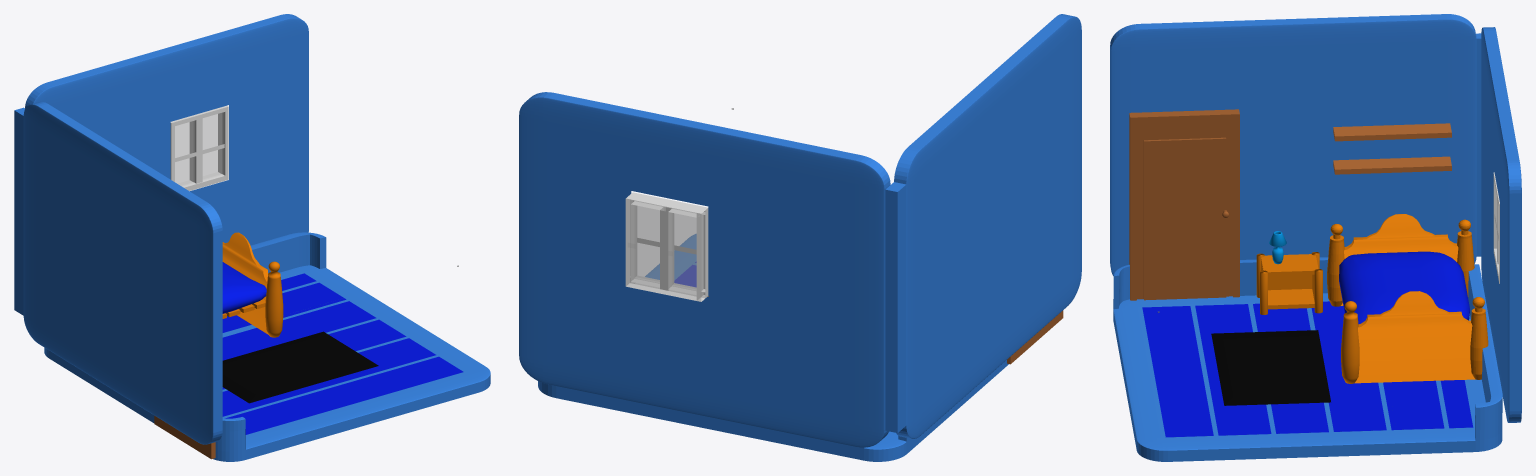
Rendered from modern-bedroom.glb.
The picture shows the model from 3 angles, left to right: view 1: azimuth 30°, elevation 25°; view 2: azimuth 150°, elevation 25°; view 3: azimuth 270°, elevation 25°; orthographic projection. The views are drawn at different scales.
Parts seen in each view (by area): view 1: Cube, Plane, Cylinder.002; view 2: Cube; view 3: Cube, Cylinder.002, Plane, Cylinder.007.
Boxes of the visible parts, x1,y1,x2,y2 form: Cube: [14, 14, 490, 461]; Plane: [222, 331, 378, 403]; Cylinder.002: [222, 232, 283, 337]; Cube: [519, 14, 1081, 461]; Cube: [1110, 14, 1521, 461]; Cylinder.002: [1327, 214, 1488, 383]; Plane: [1211, 330, 1330, 405]; Cylinder.007: [1256, 252, 1322, 314].
Bounding box in the file's own units: 119 × 89.98 × 120.
